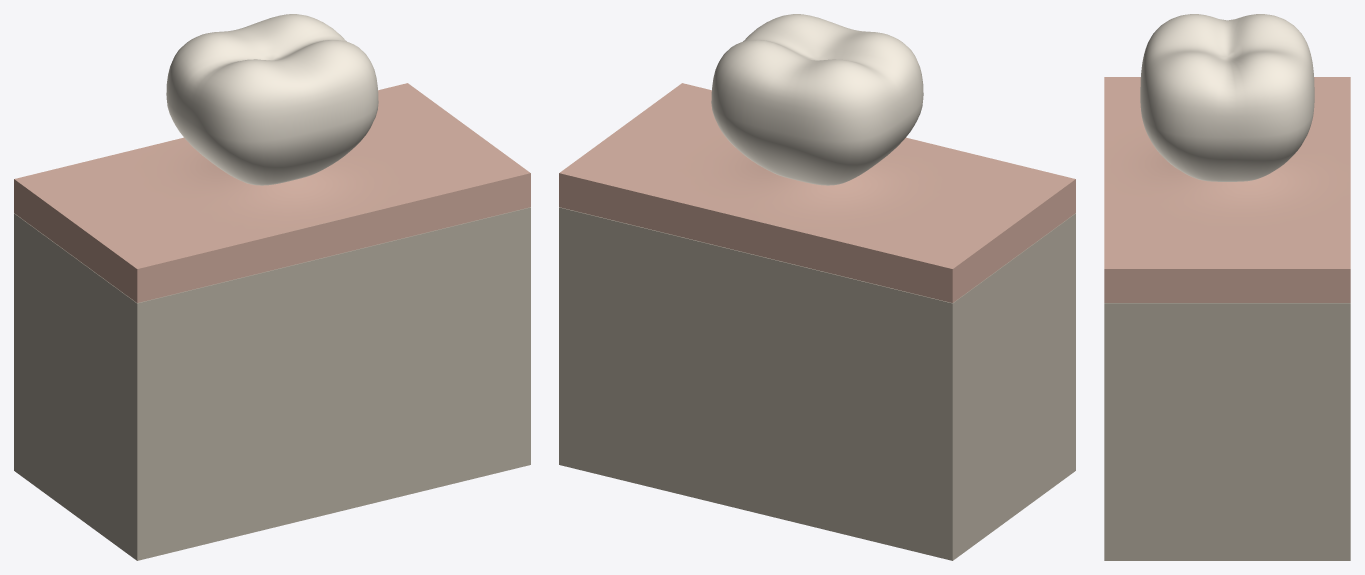
The model's file is implant.glb.
The picture shows the model from 3 angles, left to right: view 1: azimuth 30°, elevation 25°; view 2: azimuth 150°, elevation 25°; view 3: azimuth 270°, elevation 25°; orthographic projection.
Parts seen in each view (by area): view 1: bone, gum, crown; view 2: bone, gum, crown; view 3: bone, gum, crown.
Boxes of the visible parts, left/top/right/bottom form: bone: left=14, top=207, right=530, bottom=560; gum: left=14, top=83, right=530, bottom=302; crown: left=166, top=14, right=378, bottom=185; bone: left=559, top=207, right=1075, bottom=560; gum: left=559, top=83, right=1075, bottom=302; crown: left=711, top=14, right=923, bottom=185; bone: left=1104, top=303, right=1350, bottom=560; gum: left=1104, top=77, right=1350, bottom=302; crown: left=1140, top=14, right=1314, bottom=181.
Bounding box in the file's own units: 1.73 × 1.79 × 0.936.
